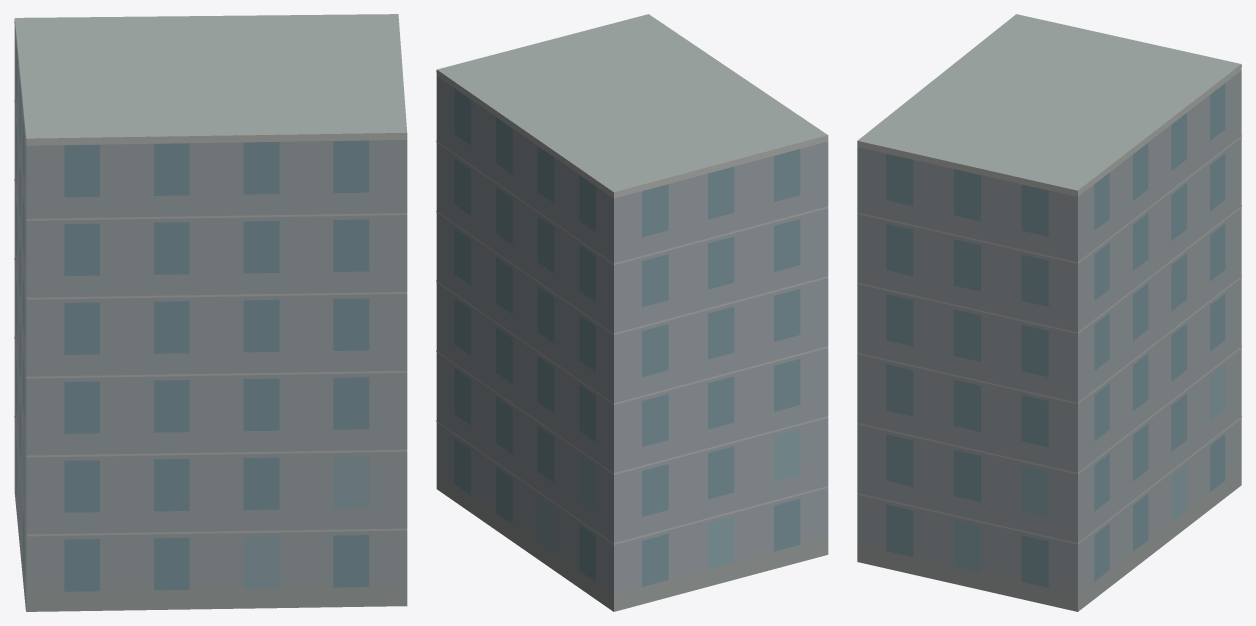
Rendered from survey-upis-32931690.glb.
The picture shows the model from 3 angles, left to right: view 1: azimuth 30°, elevation 25°; view 2: azimuth 150°, elevation 25°; view 3: azimuth 270°, elevation 25°; orthographic projection. The views are drawn at different scales.
Visible parts, largest first — view 1: survey-upis-32931690.tmp; view 2: survey-upis-32931690.tmp; view 3: survey-upis-32931690.tmp.
Boxes of the visible parts, bbox=[...] form: survey-upis-32931690.tmp: bbox=[14, 14, 407, 611]; survey-upis-32931690.tmp: bbox=[436, 14, 828, 611]; survey-upis-32931690.tmp: bbox=[857, 14, 1241, 611].
Size of the model in its own units: 14.74 by 16.35 by 13.54.
